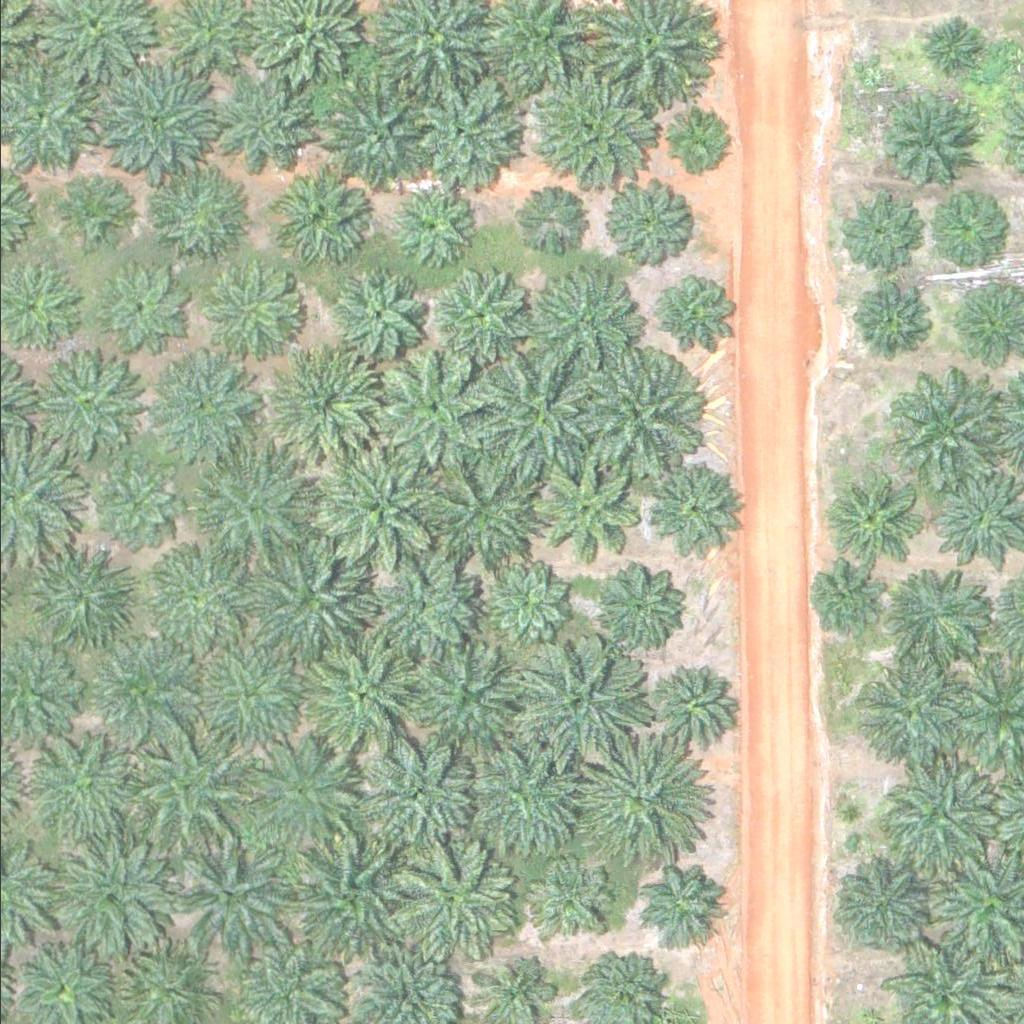Kelapa_Sawit: (389, 830, 515, 955), (281, 826, 407, 951), (46, 834, 172, 959), (572, 736, 698, 861), (114, 723, 240, 848), (514, 643, 640, 768), (313, 451, 439, 576), (573, 350, 699, 475), (480, 354, 605, 479), (263, 344, 377, 457), (535, 80, 649, 193), (463, 740, 576, 853), (186, 639, 299, 752), (302, 642, 415, 755), (255, 540, 368, 653), (193, 454, 306, 567), (379, 355, 492, 468), (30, 348, 143, 461), (531, 269, 644, 382), (101, 62, 214, 175), (847, 657, 960, 770), (894, 371, 1007, 484), (165, 839, 278, 951), (242, 743, 355, 855), (408, 636, 521, 748), (139, 539, 252, 651), (426, 456, 539, 568), (141, 346, 254, 458), (321, 80, 434, 192), (408, 75, 521, 187), (879, 759, 992, 871), (366, 741, 467, 841), (88, 642, 189, 742), (372, 556, 473, 656), (529, 463, 630, 563), (640, 461, 741, 561), (226, 78, 327, 178), (836, 864, 937, 964), (888, 567, 989, 667), (875, 87, 976, 187), (23, 730, 123, 830), (265, 167, 365, 267), (598, 177, 687, 265), (37, 555, 125, 643), (441, 268, 529, 356), (387, 178, 475, 266), (831, 471, 919, 559), (645, 269, 733, 356), (211, 271, 299, 358), (337, 270, 425, 357), (156, 172, 244, 259), (506, 179, 582, 254), (635, 861, 711, 936), (527, 860, 603, 935), (648, 668, 724, 743), (600, 569, 676, 644), (483, 567, 559, 642), (97, 274, 173, 349), (846, 284, 922, 359), (842, 195, 918, 270), (108, 468, 183, 543), (932, 192, 995, 255), (914, 16, 977, 79), (667, 113, 730, 176), (62, 181, 125, 244), (815, 566, 878, 629)
